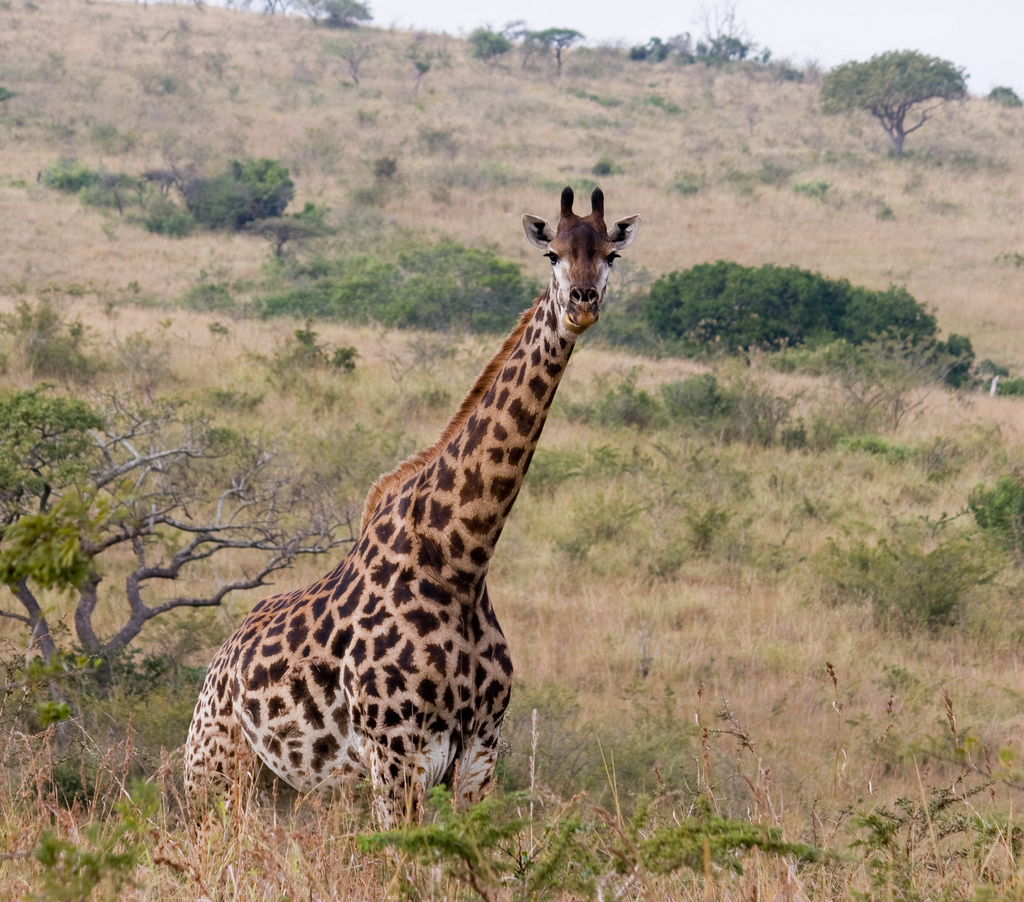giraffe: (165, 188, 678, 847)
